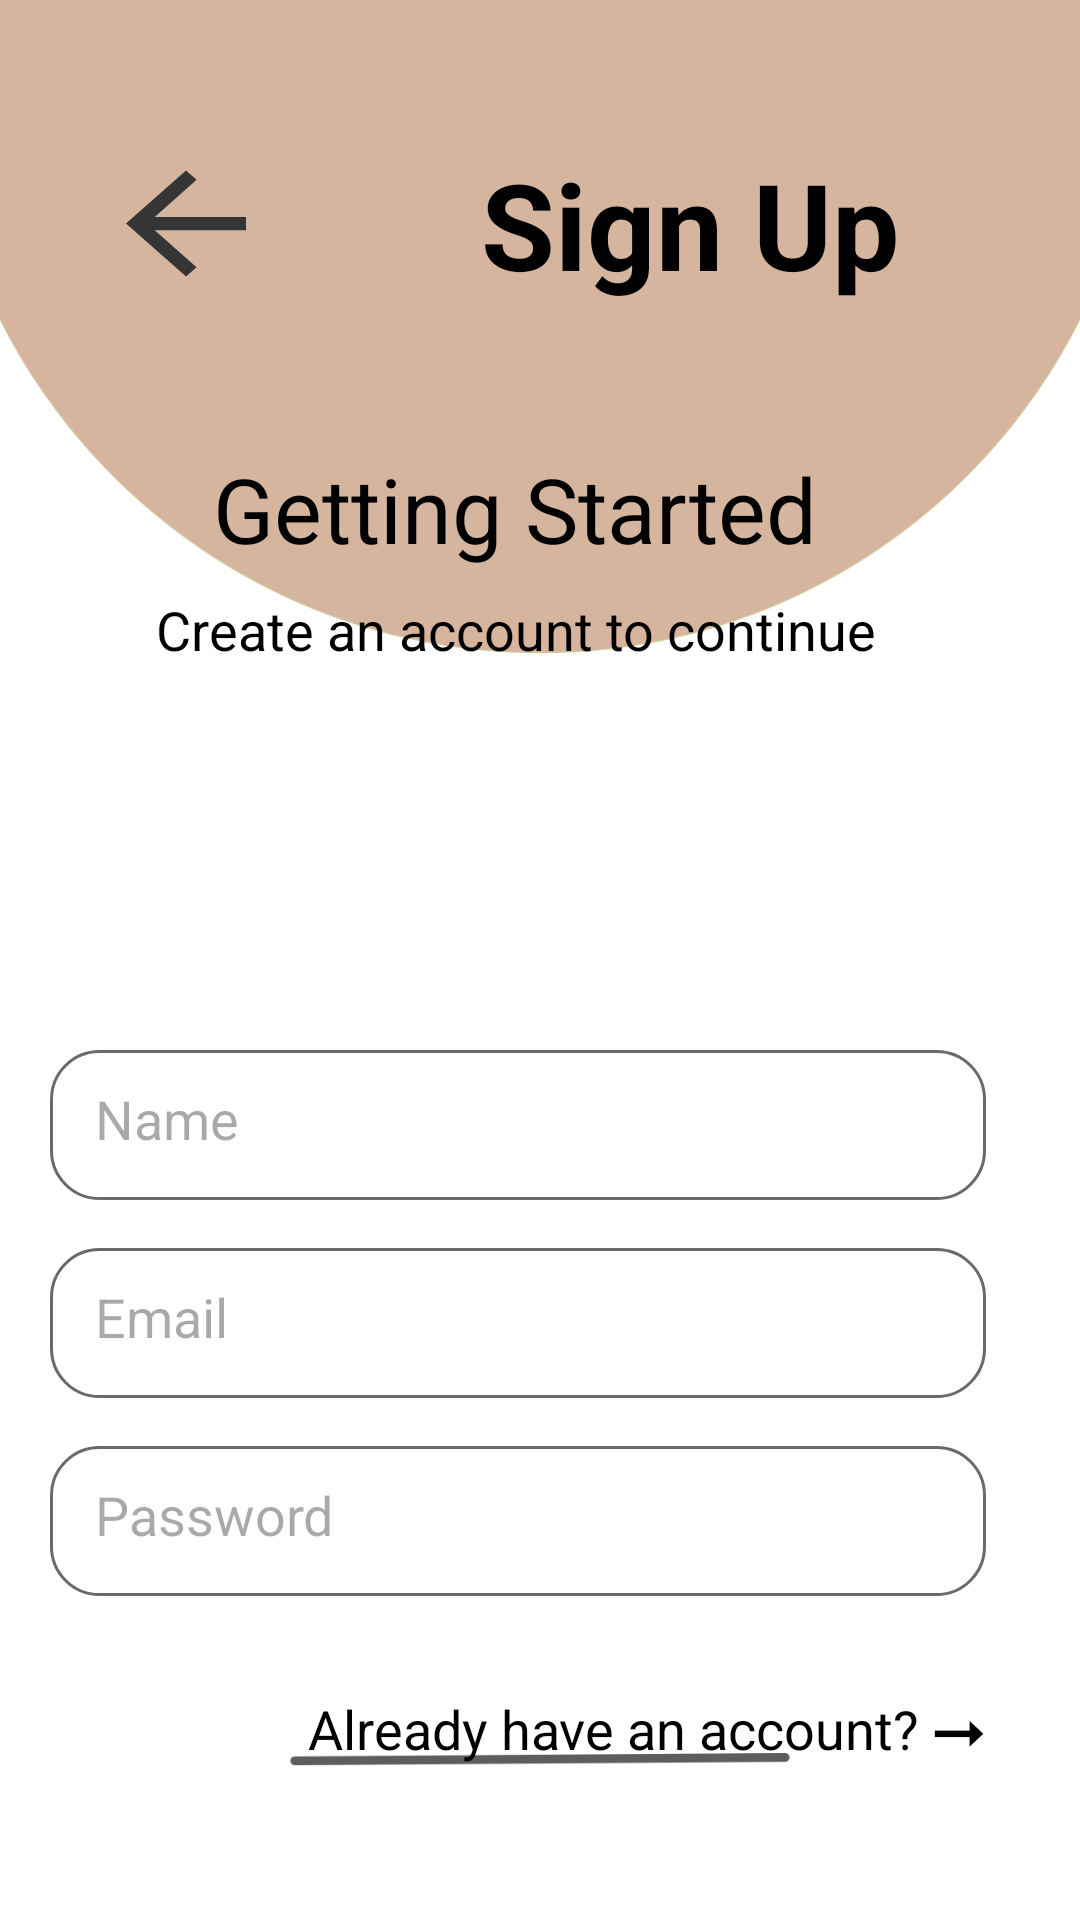

Screen size 1080x1920. Icon name, then its center in pixels as [x,y]:
arrow back: [186,223]
